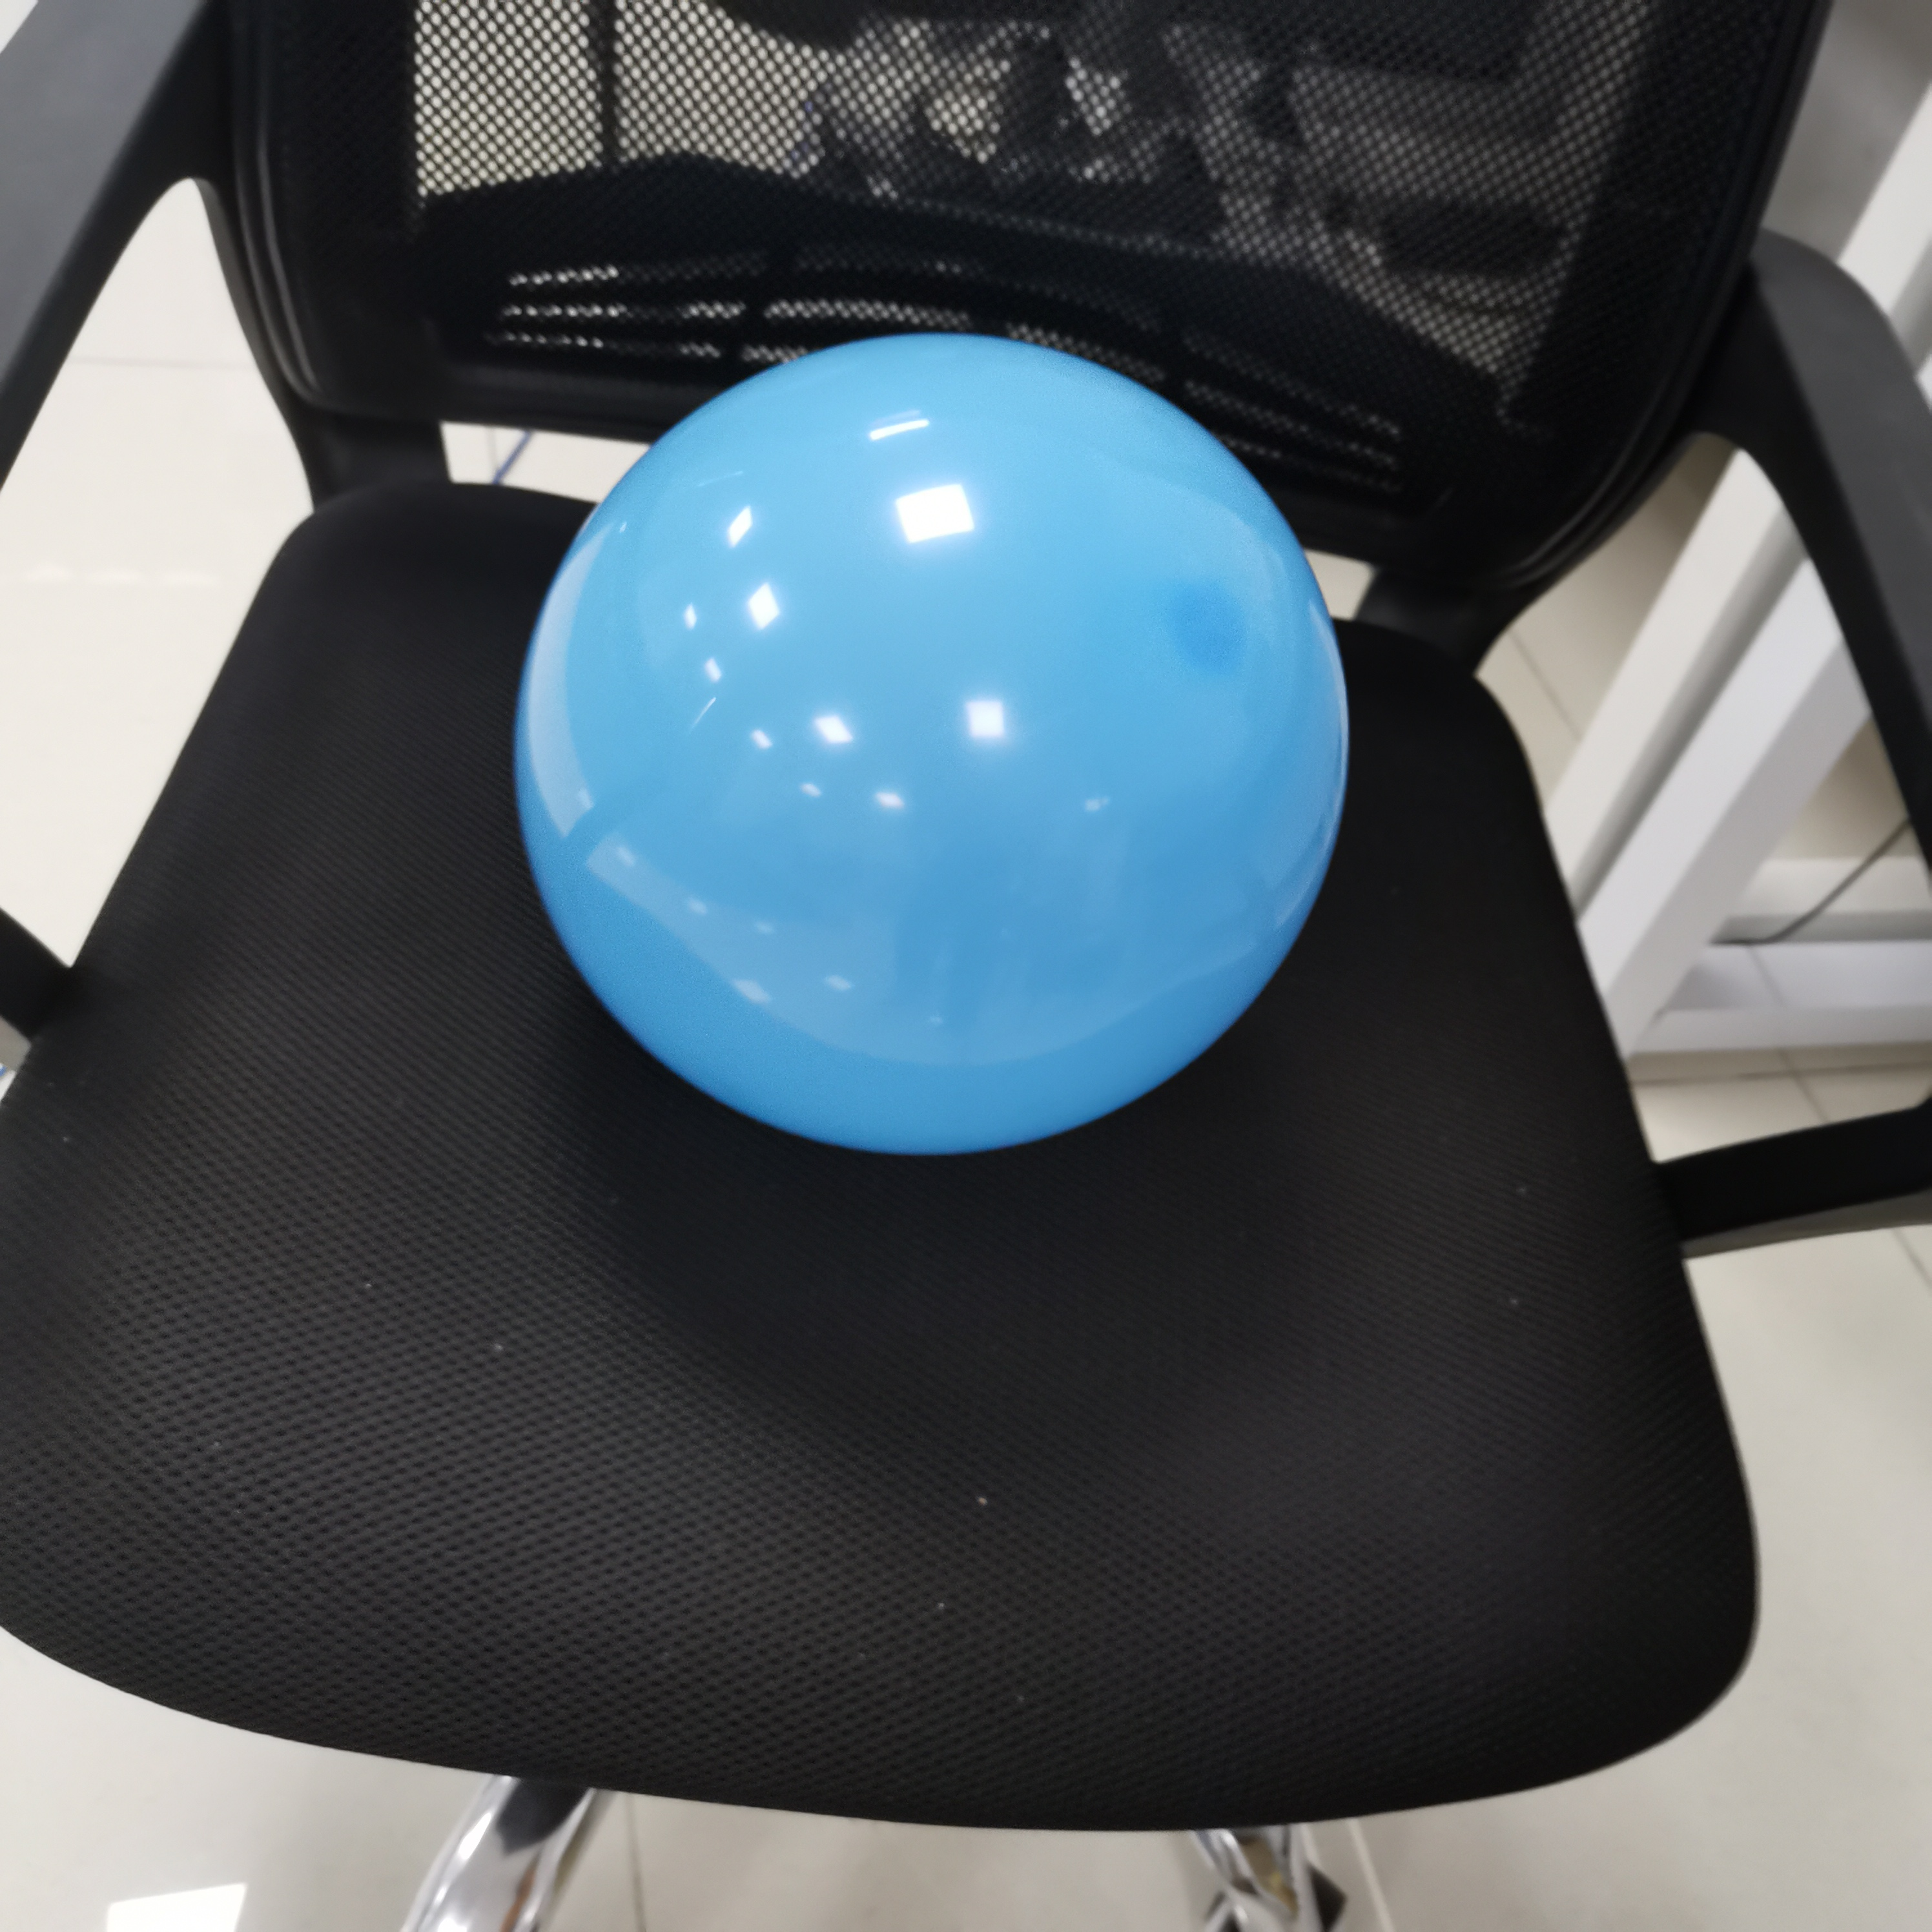balloon: (518, 334, 1348, 1162)
